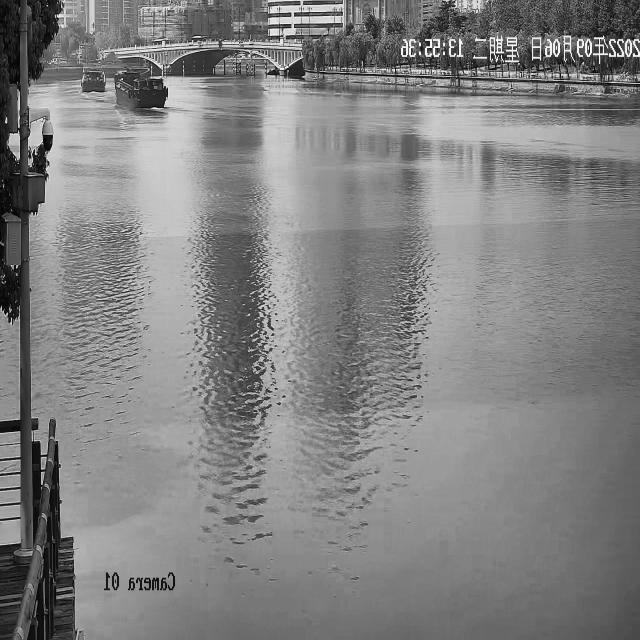ship: (116, 77, 168, 107), (114, 66, 149, 86), (80, 68, 106, 92), (267, 68, 279, 74)
